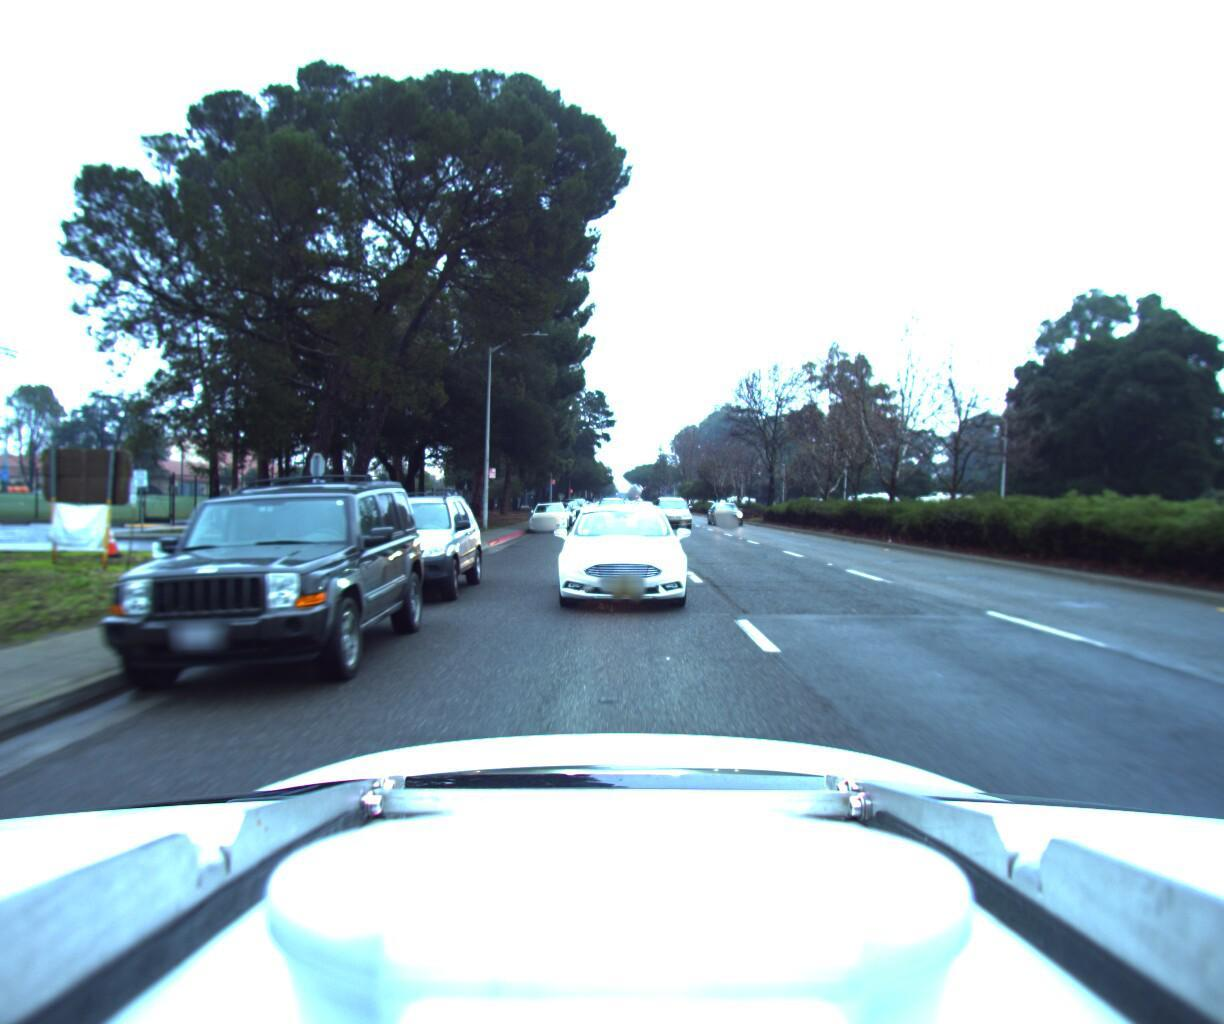car: (58, 441, 429, 731), (318, 478, 484, 612), (546, 494, 683, 616), (649, 487, 697, 523), (525, 493, 567, 530), (703, 494, 746, 519), (593, 491, 625, 522)
other_vehicle: (907, 482, 979, 527), (841, 482, 901, 522)
